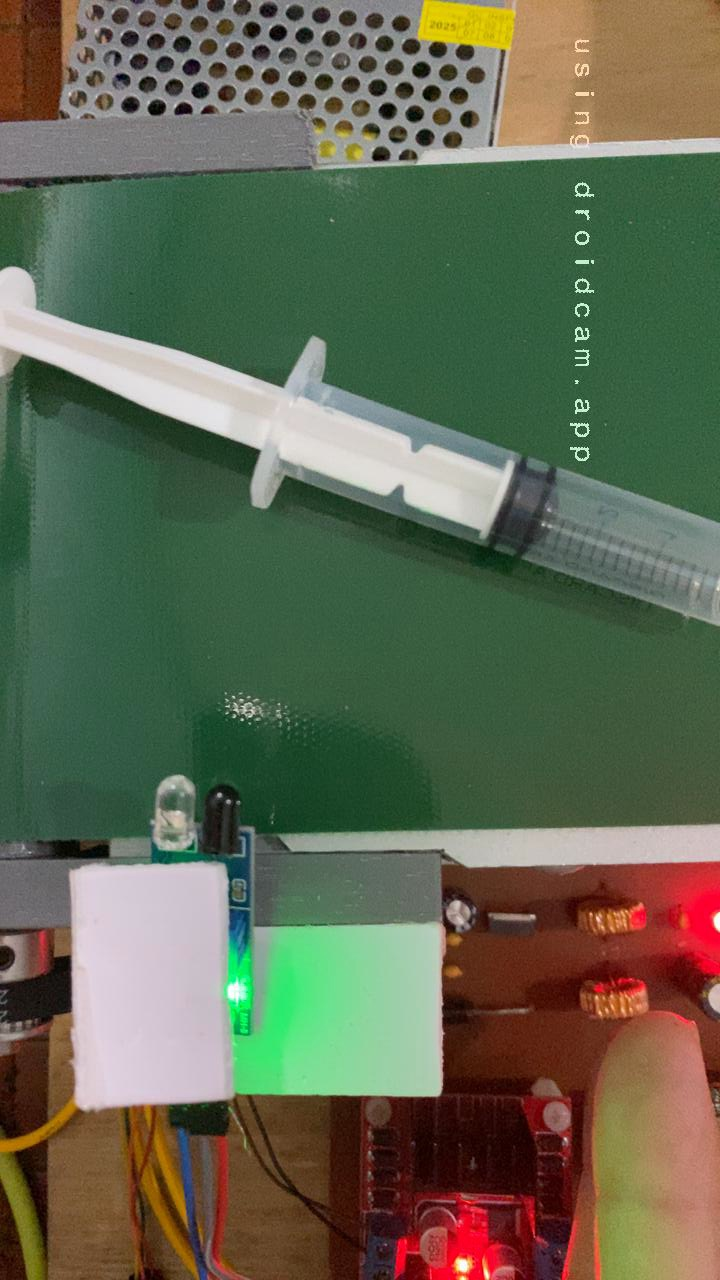syringe: (0, 259, 720, 633)
